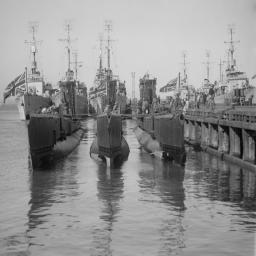submarine: (26, 72, 87, 173), (128, 67, 190, 163), (88, 66, 133, 164)
